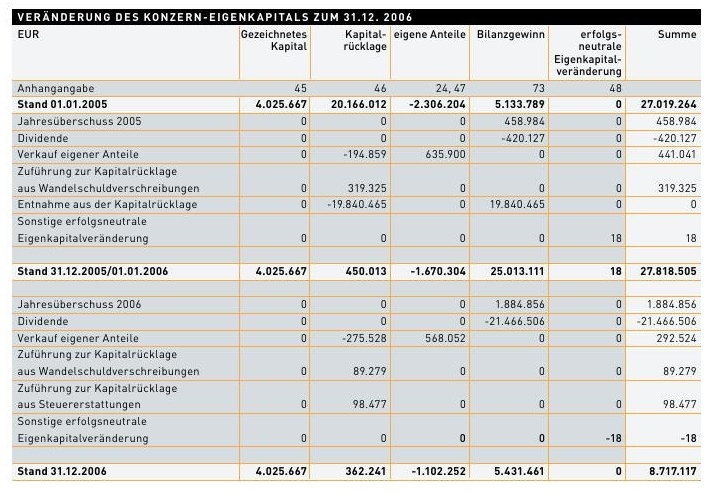table: (0, 0, 710, 493)
